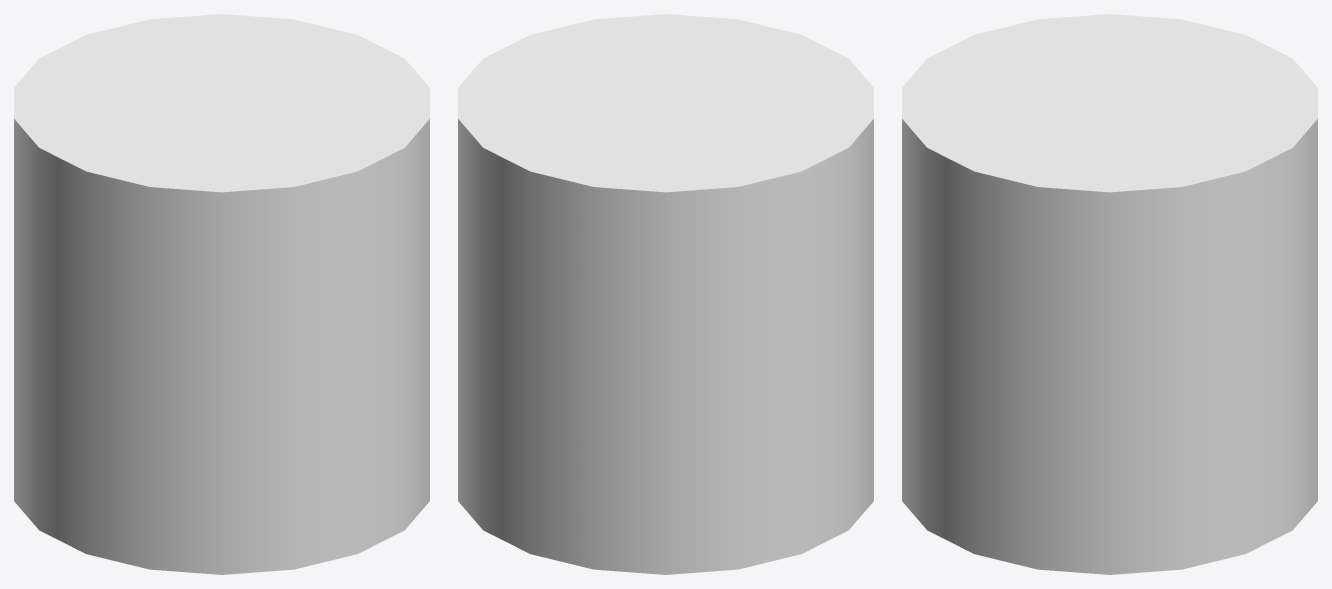
File: handle_design.glb
3 views of the same model, side by side, from view 1: azimuth 30°, elevation 25°; view 2: azimuth 150°, elevation 25°; view 3: azimuth 270°, elevation 25° (orthographic).
Parts seen in each view (by area): view 1: handle_design; view 2: handle_design; view 3: handle_design.
Part boxes in pixels (x1,y1,x2,y2): handle_design: (14,14,429,574); handle_design: (458,14,873,574); handle_design: (902,14,1317,574).
Bounding box in the file's own units: 0.03 × 0.03 × 0.0295.
1 material, 1 textured.
